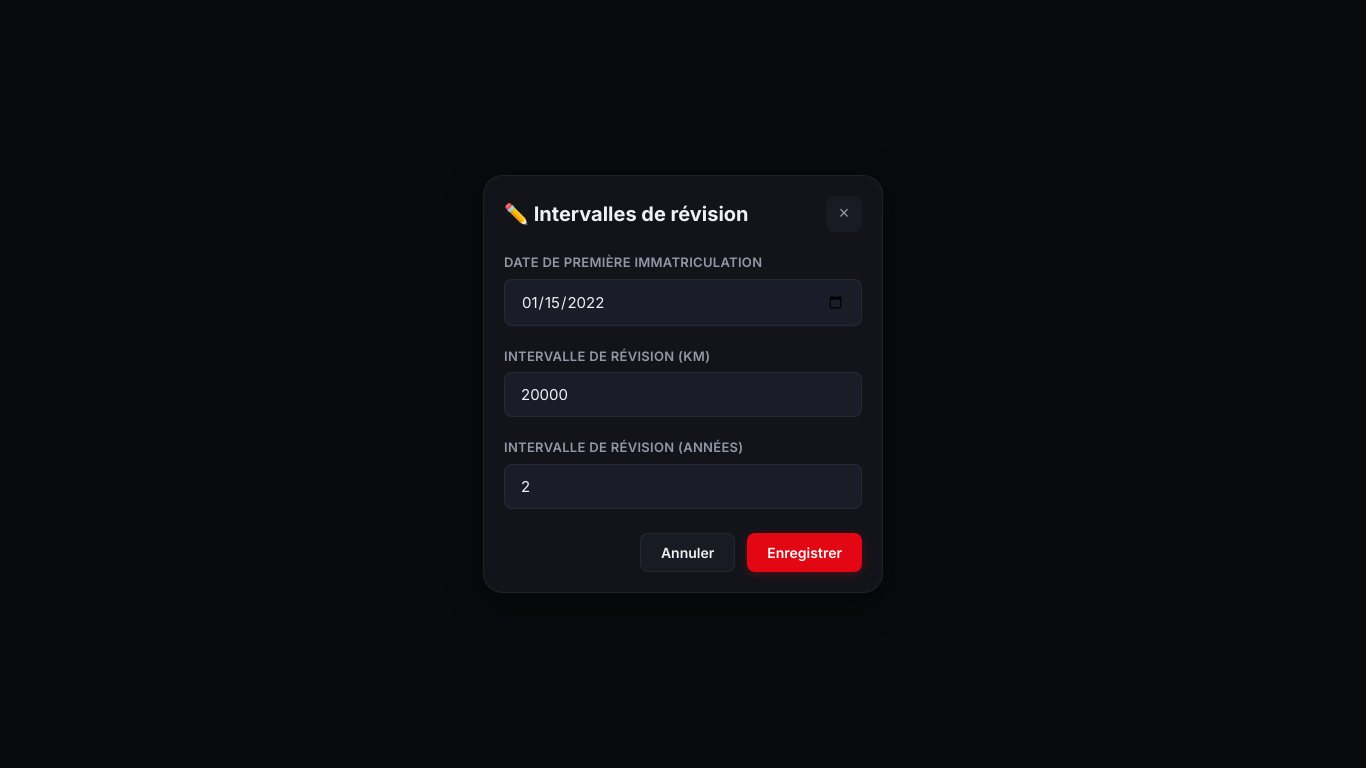
Test: EditRevisionIntervalsModal › affiche une erreur si la mise à jour échoue
Click the button "Enregistrer" at x=805, y=553, box [747,533,862,572]
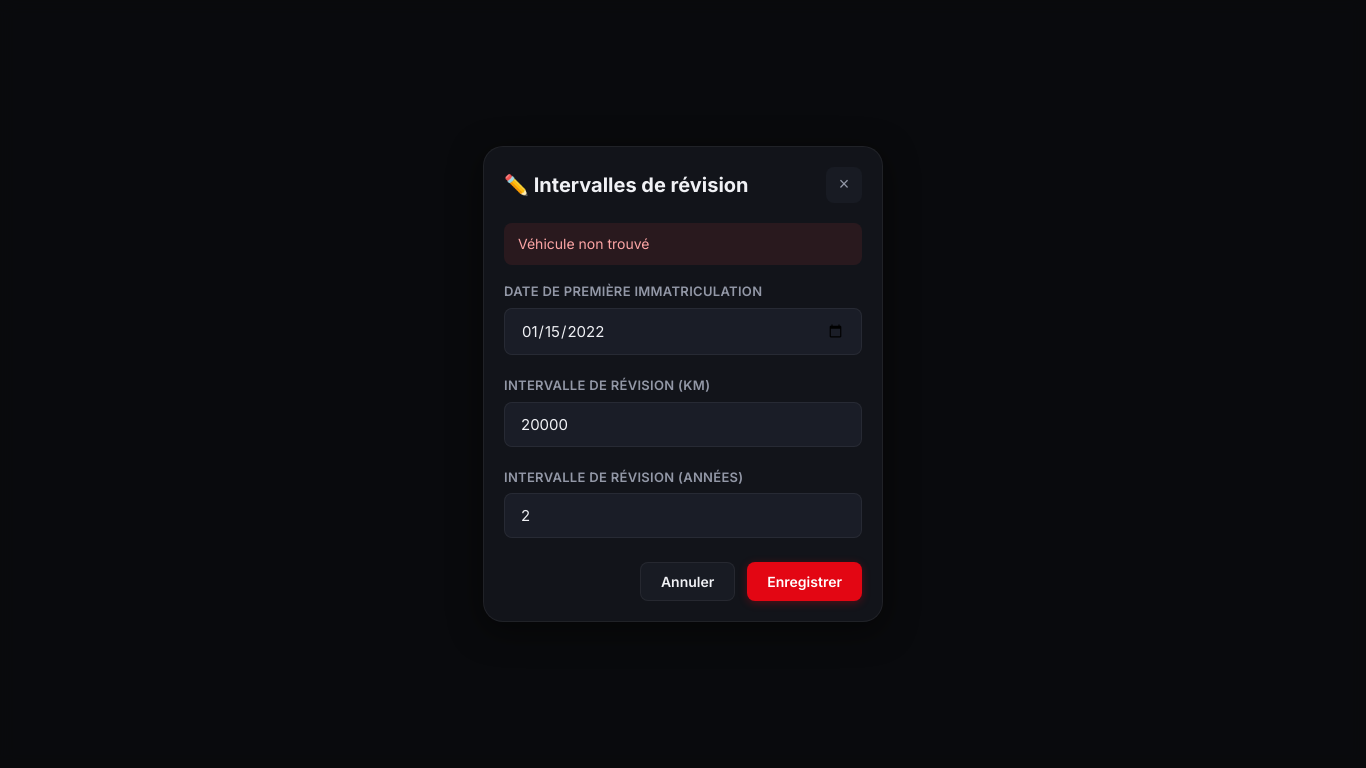
Result: the text "Véhicule non trouvé" is shown at [504,223,862,265]
